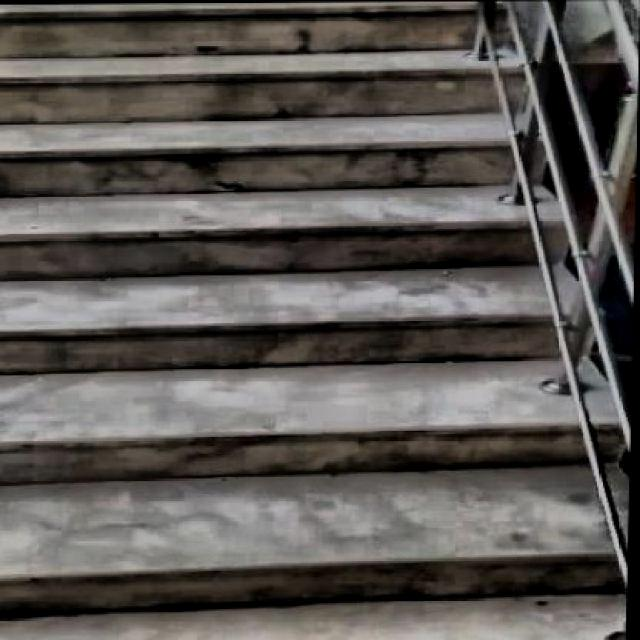stair: (2, 0, 614, 635)
